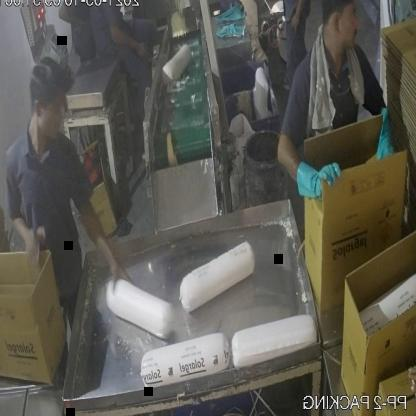glove: (290, 146, 339, 214), (366, 93, 399, 172)
no_glove: (72, 162, 132, 296), (3, 197, 47, 269), (104, 22, 151, 67), (59, 0, 87, 37), (288, 0, 313, 31)
